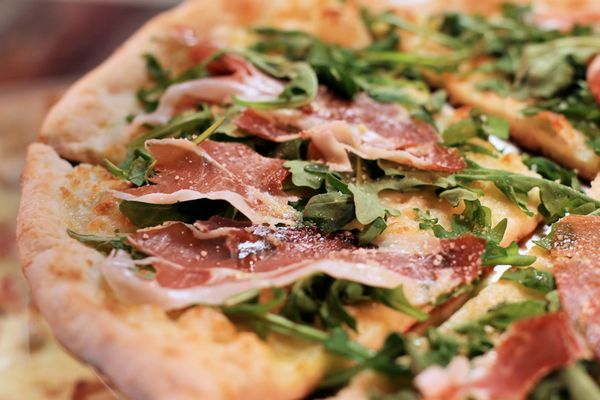sandwich: (14, 1, 599, 393)
